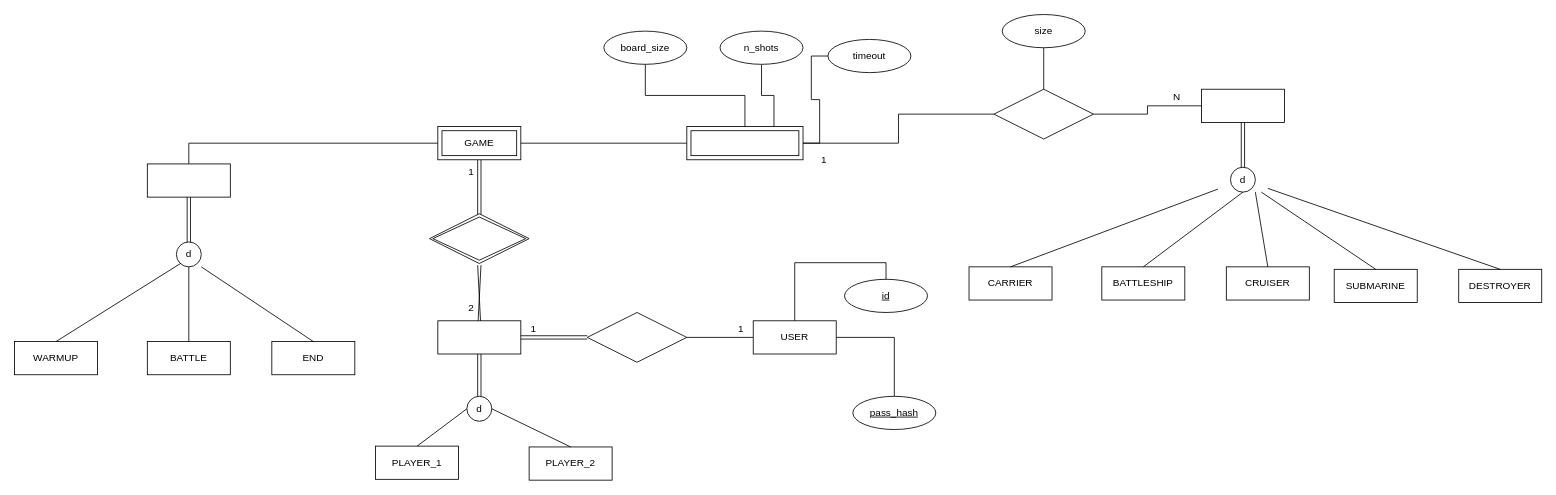
Image size: 1556x495. Some labels were removed from this diagram. Here are the shapes that lost their labels. From the top down, the box of each, then its label:
(993, 88, 1094, 139): has
(1201, 88, 1284, 122): SHIP
(686, 126, 803, 160): CONFIGURATION
(146, 163, 230, 197): STATE
(429, 213, 529, 264): have
(437, 320, 521, 354): PLAYER
(586, 312, 687, 362): is
